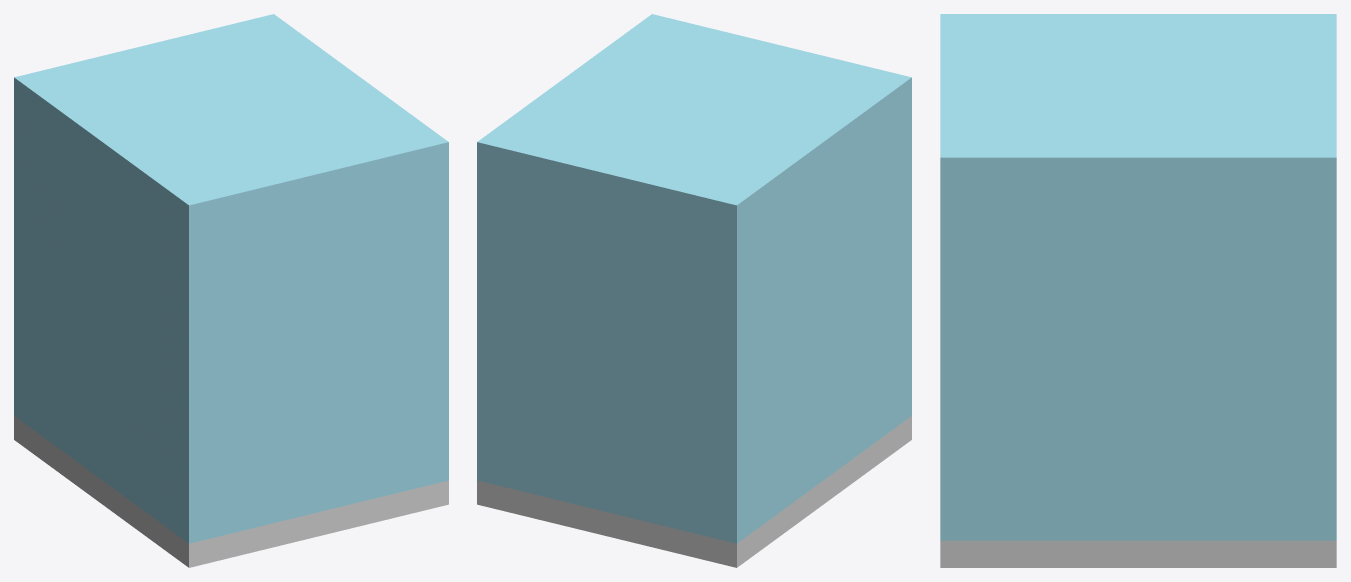
File: basicblock.fbx
3 views of the same model, side by side, from view 1: azimuth 30°, elevation 25°; view 2: azimuth 150°, elevation 25°; view 3: azimuth 270°, elevation 25° (orthographic). The views are drawn at different scales.
Parts seen in each view (by area): view 1: basicblock; view 2: basicblock; view 3: basicblock.
Boxes of the visible parts, x1,y1,x2,y2 form: basicblock: (14,14,448,567); basicblock: (477,14,911,567); basicblock: (940,14,1336,567).
Bounding box in the file's own units: 600 × 800 × 700.
